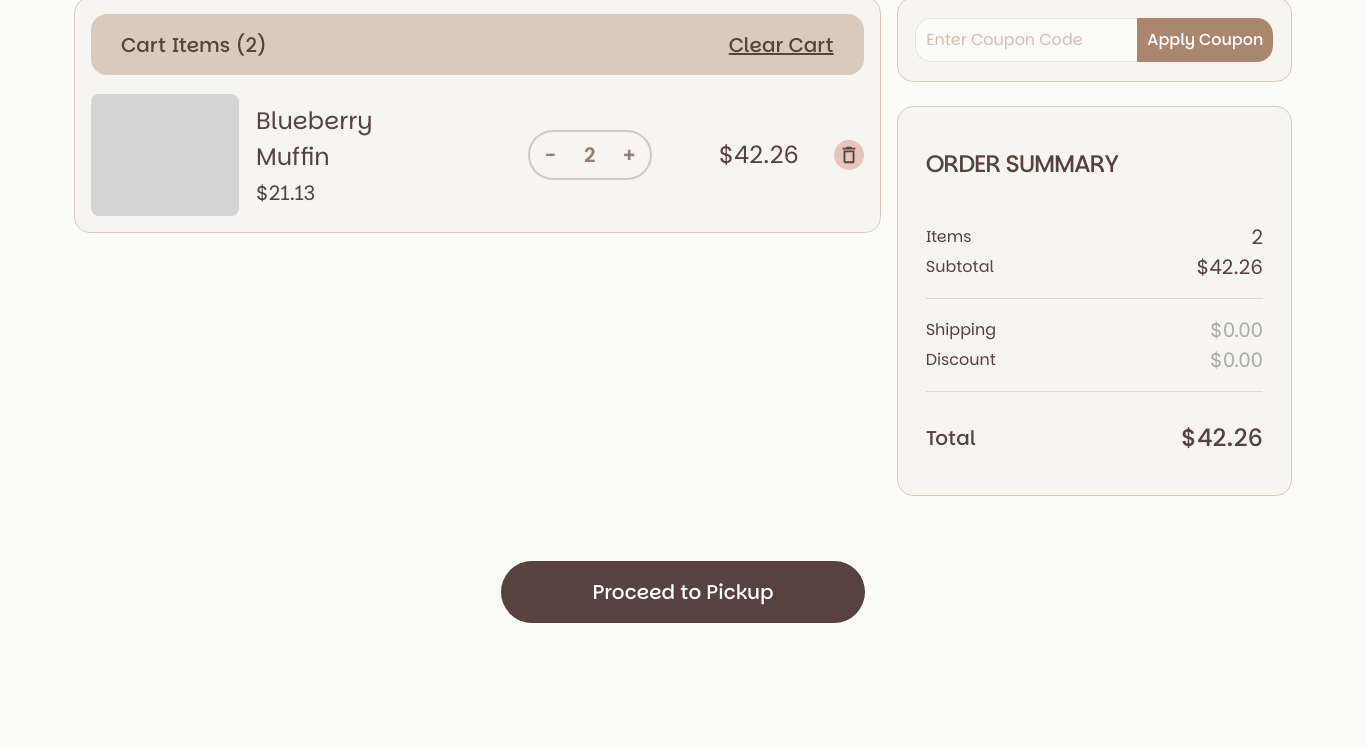
it: Pickup stage 3 - Step 02, date and time › the Pick Up Time tab shows real slot labels from config and defaults to the first one
The width and height of the screenshot is (1366, 748).
(page scrolled)
Click the button "Proceed to Pickup" at (683, 592), box [501,561,865,623]
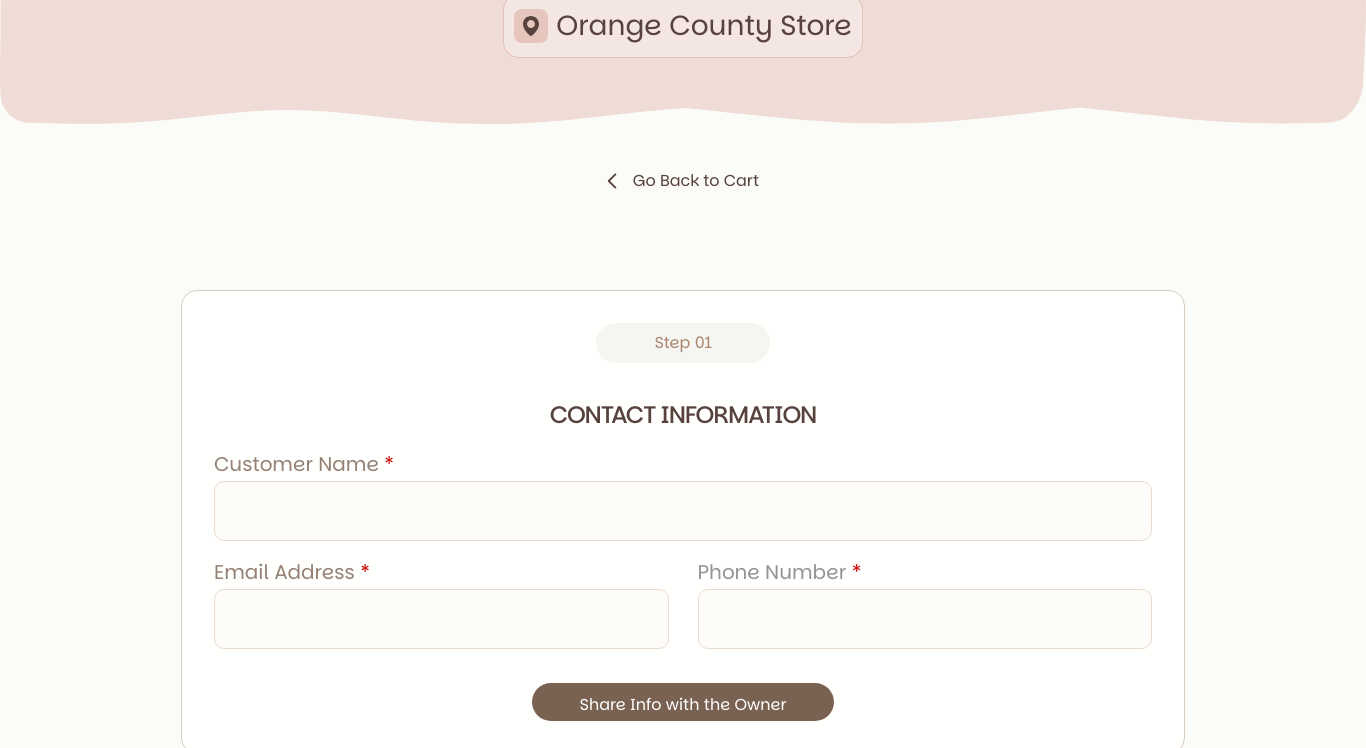
Type "Jess" into the field labelled "Customer Name *" at (683, 511), box [214,481,1152,541]
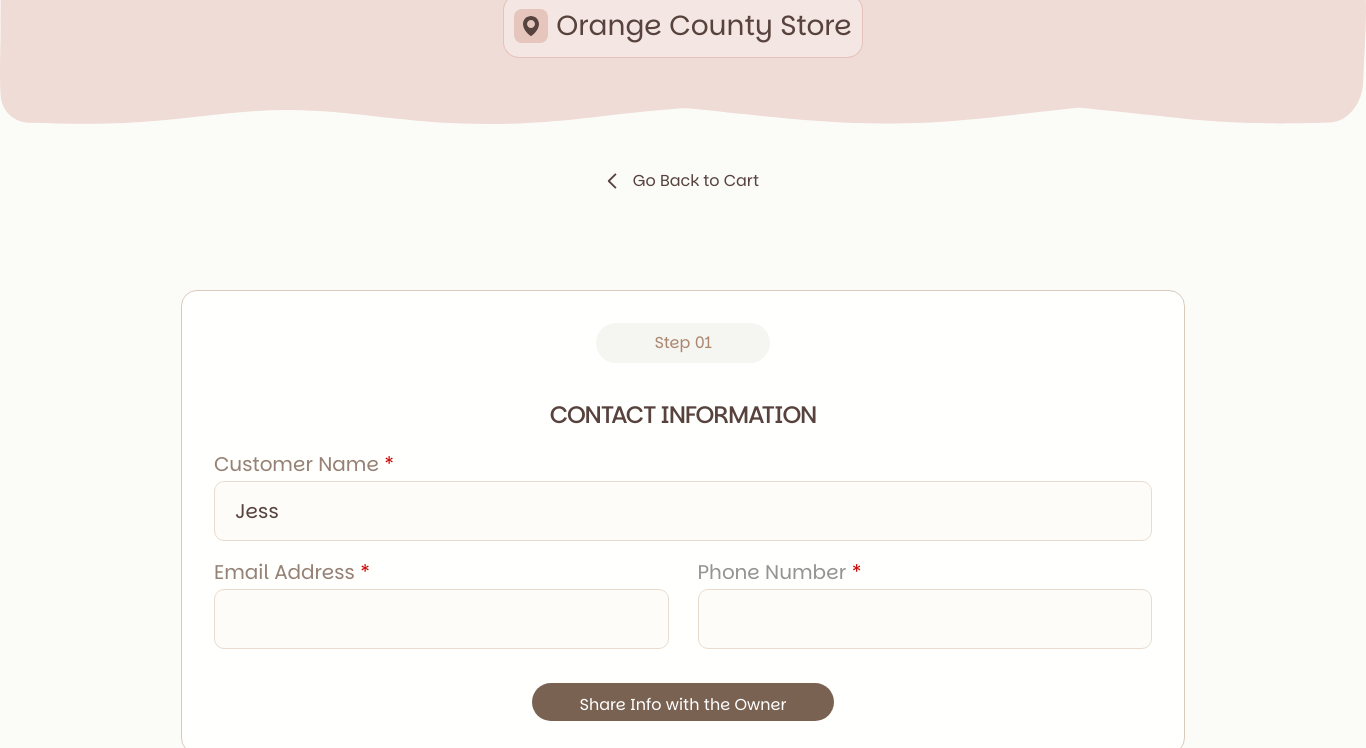
Type "jess@example.com" into the field labelled "Email Address *" at (441, 619), box [214,589,668,649]
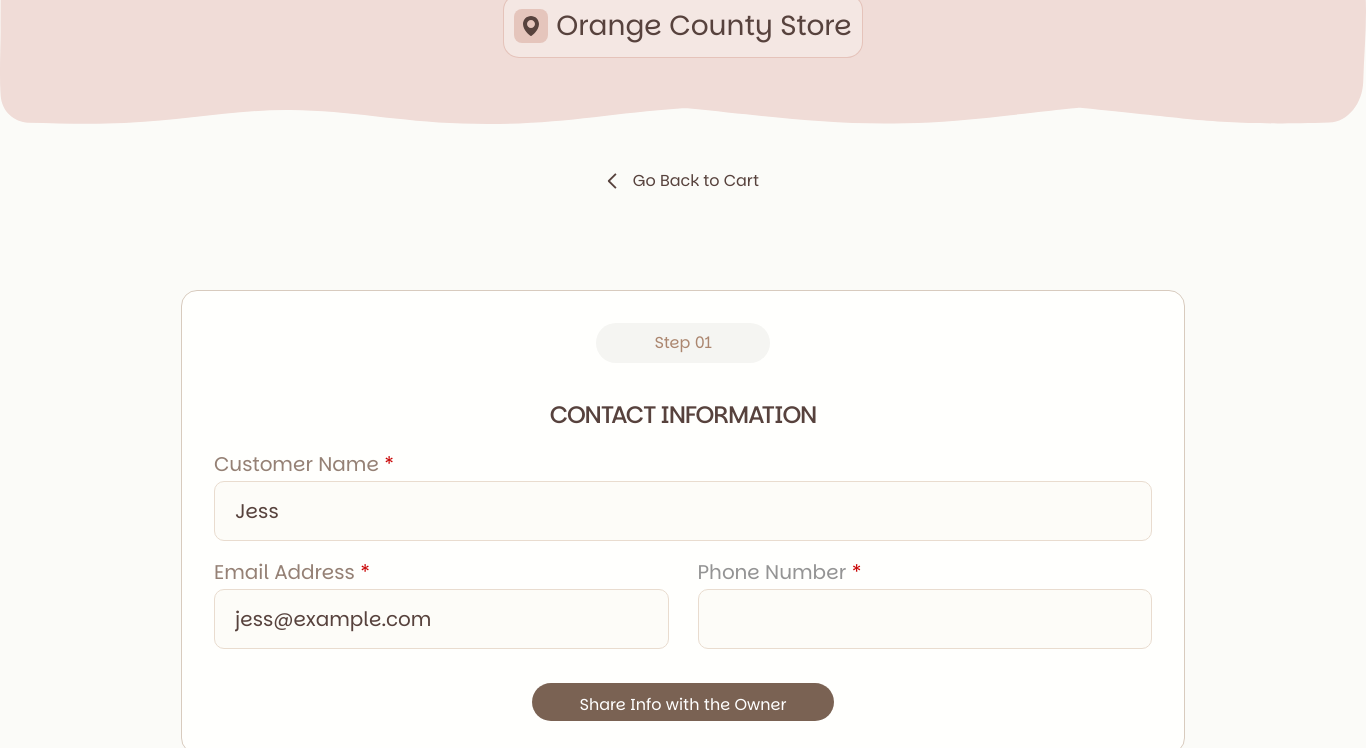
Type "714-555-0123" into the field labelled "Phone Number *" at (925, 619), box [698,589,1152,649]
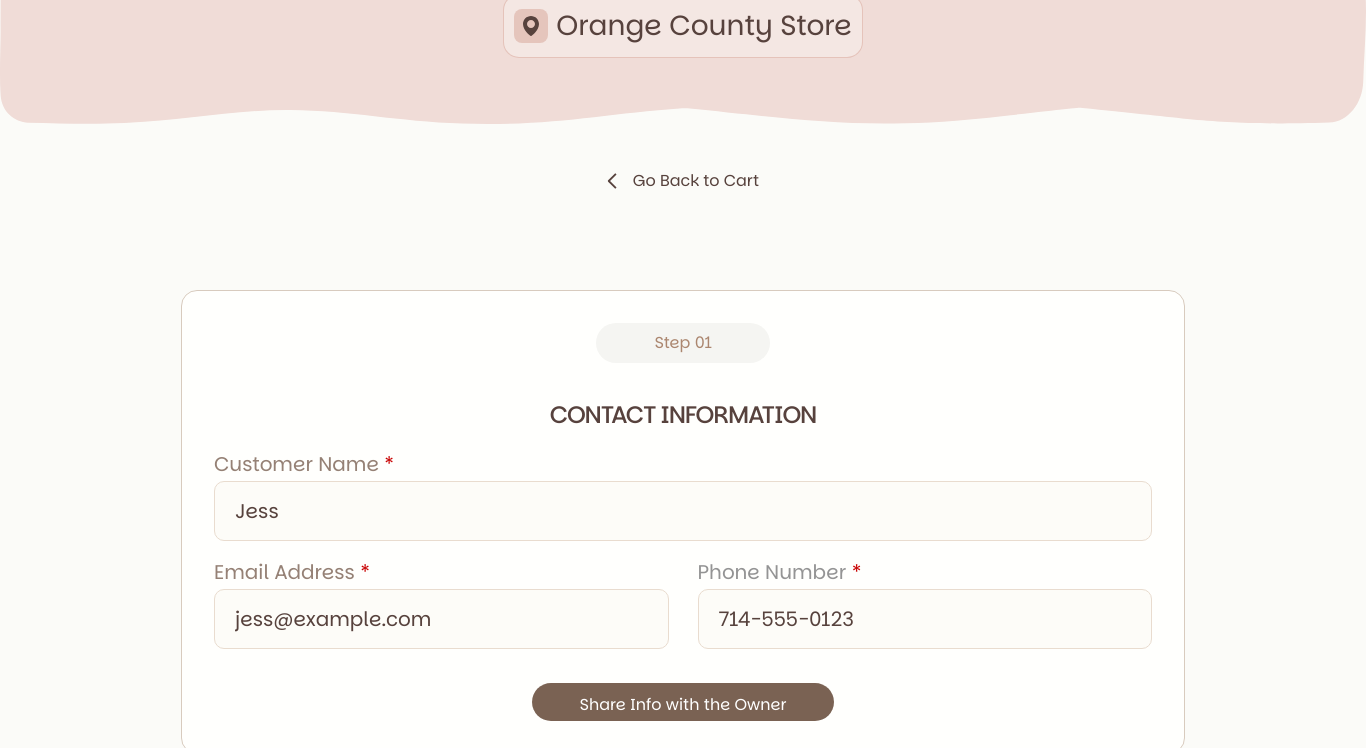
Click the button "Share Info with the Owner" at (683, 702), box [532,683,834,721]
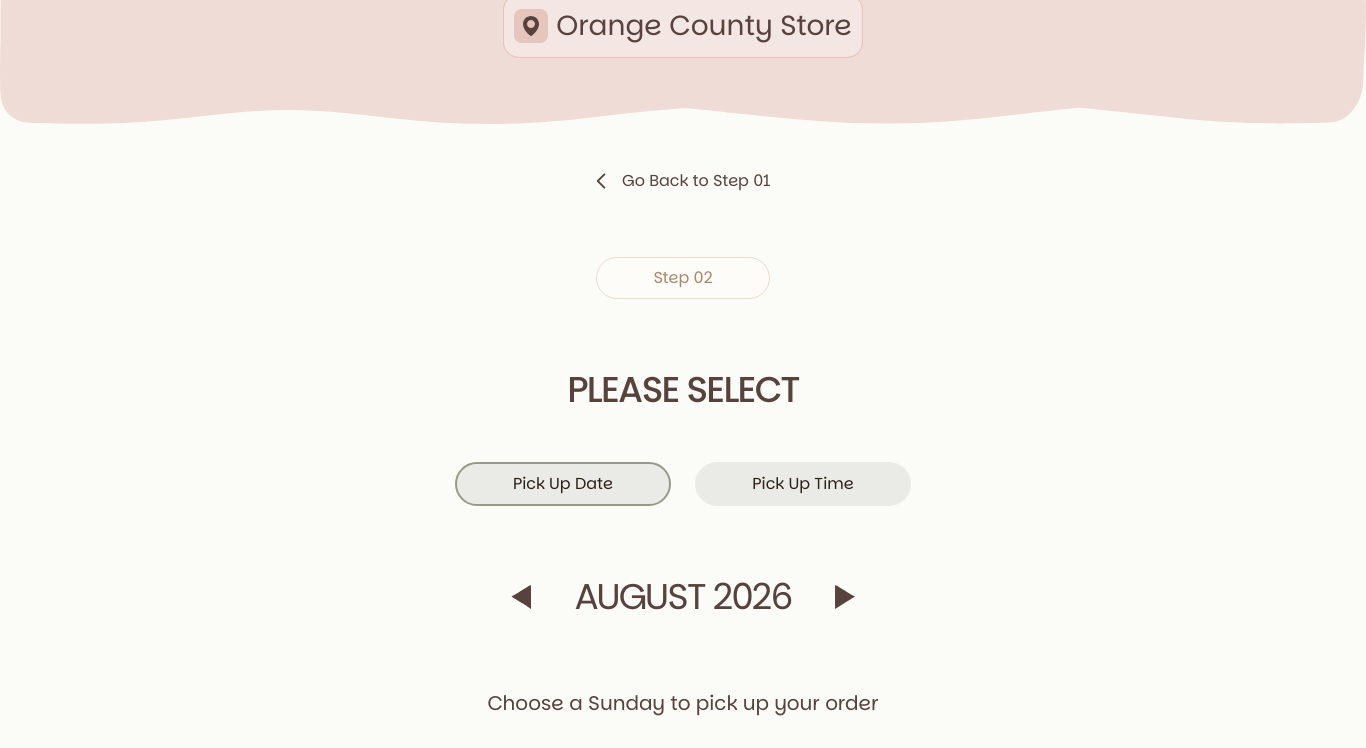
Click the button "Pick Up Time" at (803, 484), box [695,462,911,506]
(page scrolled)
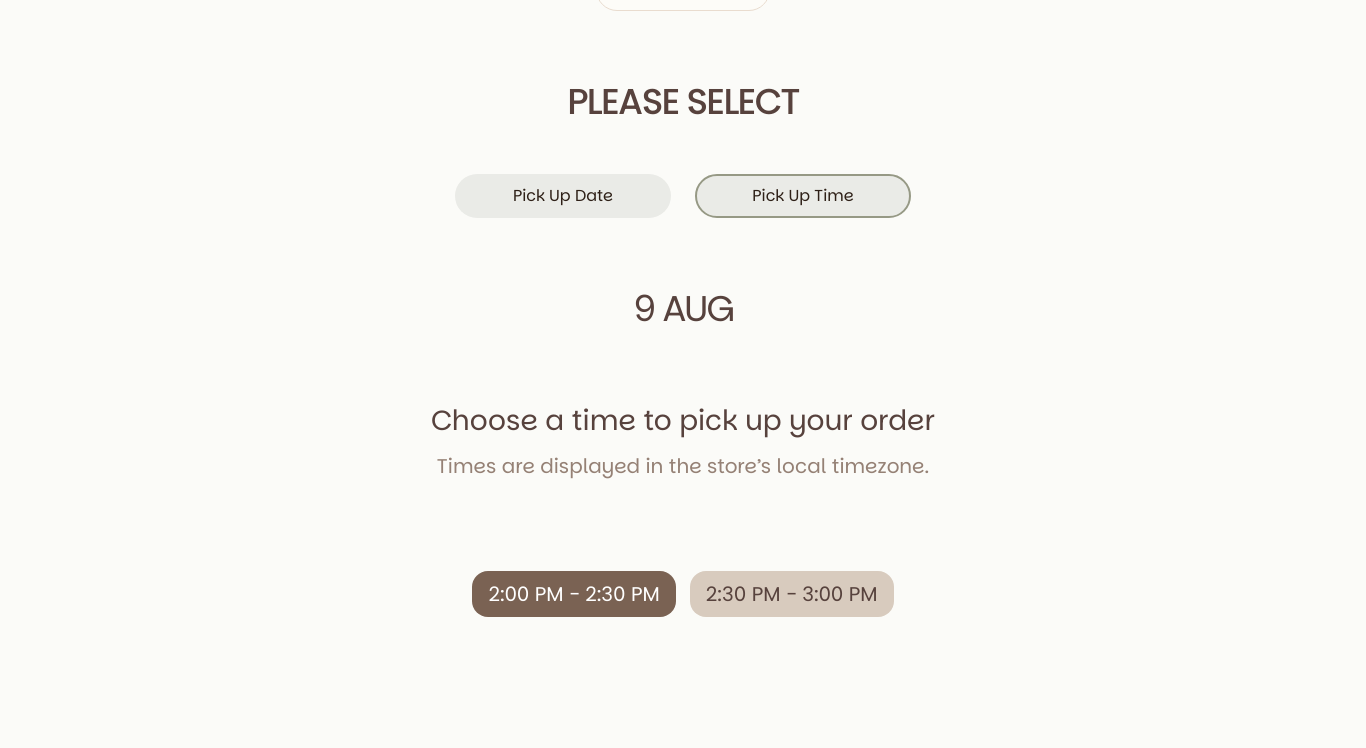
Now the button "2:30 PM - 3:00 PM" is shown, box [690,571,894,617]
